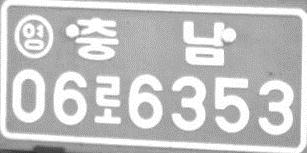0: (10, 68, 45, 125)
3: (170, 74, 208, 132), (257, 79, 295, 136)
5: (213, 75, 251, 134)
6: (126, 73, 164, 129), (52, 70, 87, 126)
로: (92, 74, 123, 125)
영: (13, 13, 54, 60)
충남_D: (74, 17, 227, 68)
